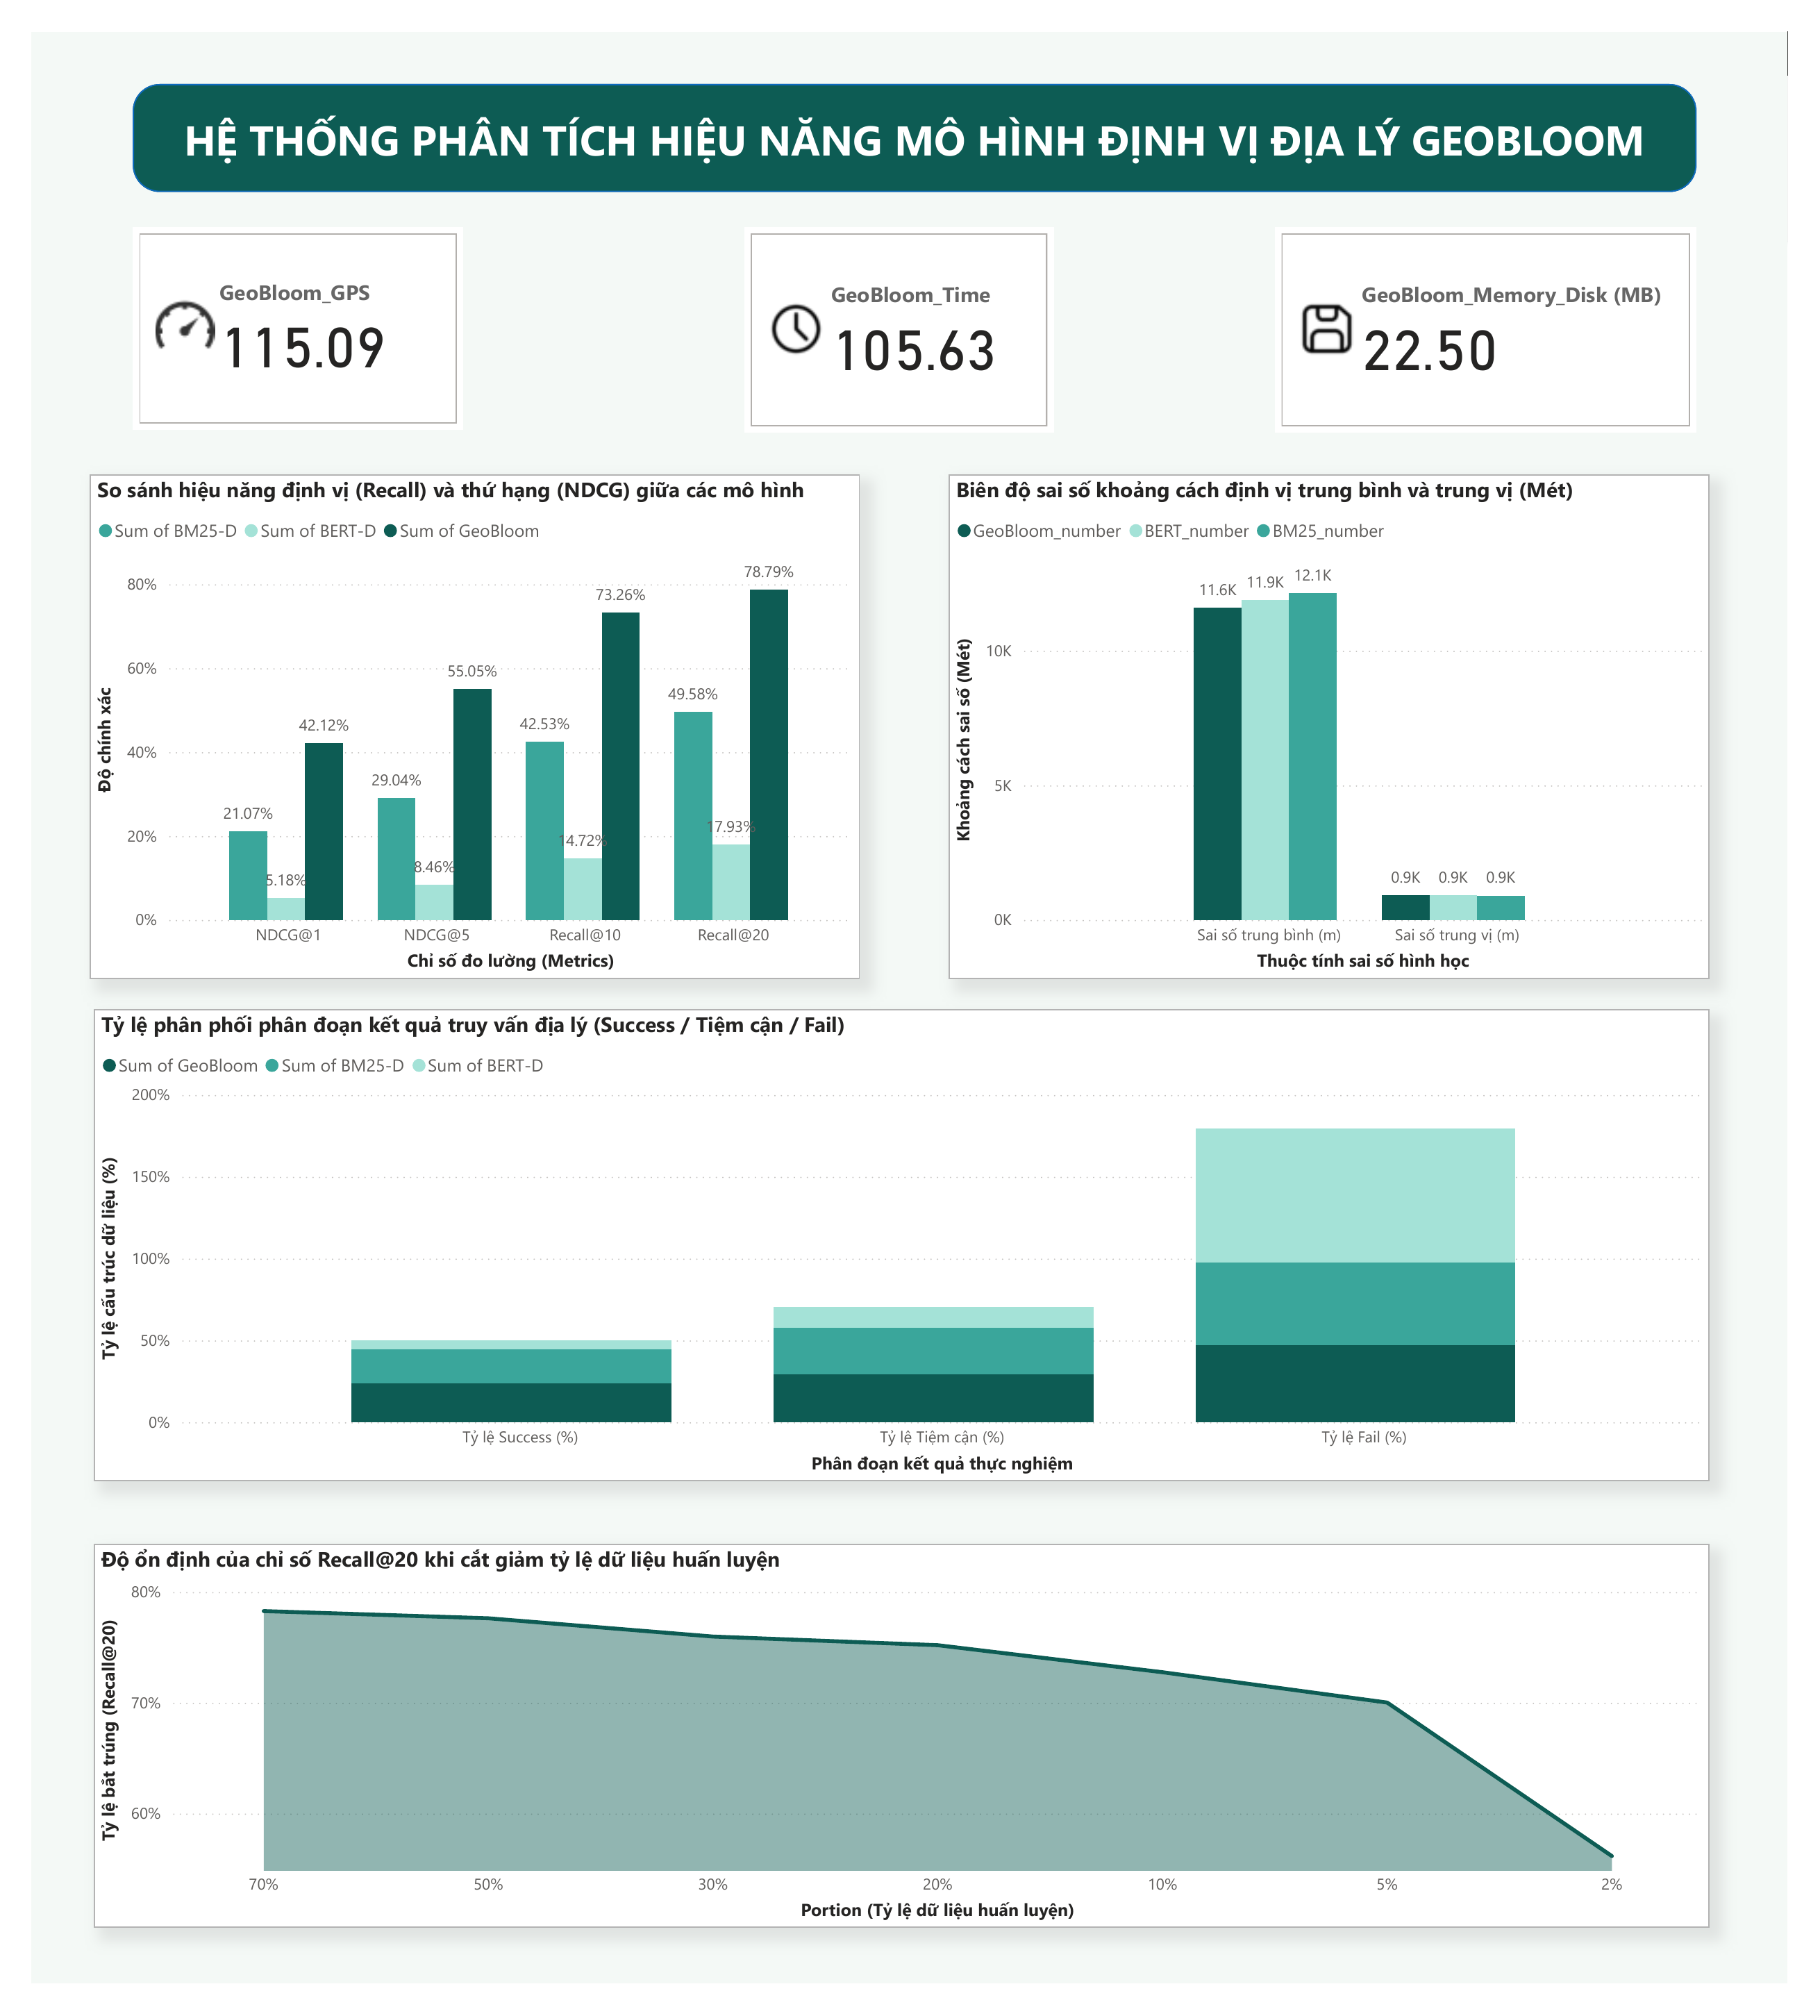

This screenshot's page, from the dashboard's own definition file:
{"tool":"powerbi","page":{"name":"Page 1","canvas":[1350,1500],"ordinal":0},"visuals":[{"type":"clusteredColumnChart","title":"So sánh hiệu năng định vị (Recall) và thứ hạng (NDCG) giữa các mô hình","fields":{"Category":["Bảng Tổng Hợp Số Liệu Thực Nghiệm (Benchmarking).Tiêu chí Đánh giá"],"Y":["Sum(Bảng Tổng Hợp Số Liệu Thực Nghiệm (Benchmarking).BM25-D)","Sum(Bảng Tổng Hợp Số Liệu Thực Nghiệm (Benchmarking).BERT-D)","Sum(Bảng Tổng Hợp Số Liệu Thực Nghiệm (Benchmarking).GeoBloom)"]},"box":[45,339.7,591.7,388.3],"z":0},{"type":"cardVisual","fields":{"Data":["Bảng Tổng Hợp Số Liệu Thực Nghiệm (Benchmarking).GeoBloom_GPS"]},"box":[78,150,254,156],"z":1000},{"type":"cardVisual","fields":{"Data":["Bảng Tổng Hợp Số Liệu Thực Nghiệm (Benchmarking).GeoBloom_Memory_Disk"]},"box":[956,150,324,158],"z":2000},{"type":"cardVisual","fields":{"Data":["Bảng Tổng Hợp Số Liệu Thực Nghiệm (Benchmarking).GeoBloom_Time"]},"box":[548,150,238,158],"z":3000},{"type":"columnChart","title":"Tỷ lệ phân phối phân đoạn kết quả truy vấn địa lý (Success / Tiệm cận / Fail)","fields":{"Category":["Bảng Tổng Hợp Số Liệu Thực Nghiệm (Benchmarking).Tiêu chí Đánh giá"],"Y":["Sum(Bảng Tổng Hợp Số Liệu Thực Nghiệm (Benchmarking).GeoBloom)","Sum(Bảng Tổng Hợp Số Liệu Thực Nghiệm (Benchmarking).BM25-D)","Sum(Bảng Tổng Hợp Số Liệu Thực Nghiệm (Benchmarking).BERT-D)"]},"box":[48,750.7,1241.7,363.3],"z":4000},{"type":"clusteredColumnChart","title":"Biên độ sai số khoảng cách định vị trung bình và trung vị (Mét)","fields":{"Category":["Bảng Tổng Hợp Số Liệu Thực Nghiệm (Benchmarking).Tiêu chí Đánh giá"],"Y":["Bảng Tổng Hợp Số Liệu Thực Nghiệm (Benchmarking).GeoBloom_number","Bảng Tổng Hợp Số Liệu Thực Nghiệm (Benchmarking).BERT_number","Bảng Tổng Hợp Số Liệu Thực Nghiệm (Benchmarking).BM25_number"]},"box":[705,340,585,388.3],"z":5000},{"type":"areaChart","title":"Độ ổn định của chỉ số Recall@20 khi cắt giảm tỷ lệ dữ liệu huấn luyện","fields":{"Category":["Bảng tổng hợp kết quả Varying Data.Portion"],"Y":["Sum(Bảng tổng hợp kết quả Varying Data.Recall@20)"]},"box":[48,1162.3,1241.7,295],"z":6000},{"type":"shape","box":[77.5,40,1202.5,82.5],"z":7000}]}

Visuals, with their boxes in screenshot pixels (x1, y1, x2, y2), scaled from the page's 1350x1500 canvas onto the 1820x2016 screenshot:
"So sánh hiệu năng định vị (Recall) và thứ hạng (NDCG) giữa các mô hình" clusteredColumnChart: crop(60, 456, 858, 978)
cardVisual - Bảng Tổng Hợp Số Liệu Thực Nghiệm (Benchmarking).GeoBloom_GPS: crop(105, 201, 448, 411)
cardVisual - Bảng Tổng Hợp Số Liệu Thực Nghiệm (Benchmarking).GeoBloom_Memory_Disk: crop(1289, 201, 1726, 414)
cardVisual - Bảng Tổng Hợp Số Liệu Thực Nghiệm (Benchmarking).GeoBloom_Time: crop(739, 201, 1060, 414)
"Tỷ lệ phân phối phân đoạn kết quả truy vấn địa lý (Success / Tiệm cận / Fail)" columnChart: crop(65, 1009, 1739, 1497)
"Biên độ sai số khoảng cách định vị trung bình và trung vị (Mét)" clusteredColumnChart: crop(951, 457, 1739, 979)
"Độ ổn định của chỉ số Recall@20 khi cắt giảm tỷ lệ dữ liệu huấn luyện" areaChart: crop(65, 1562, 1739, 1958)
shape: crop(104, 53, 1726, 165)
